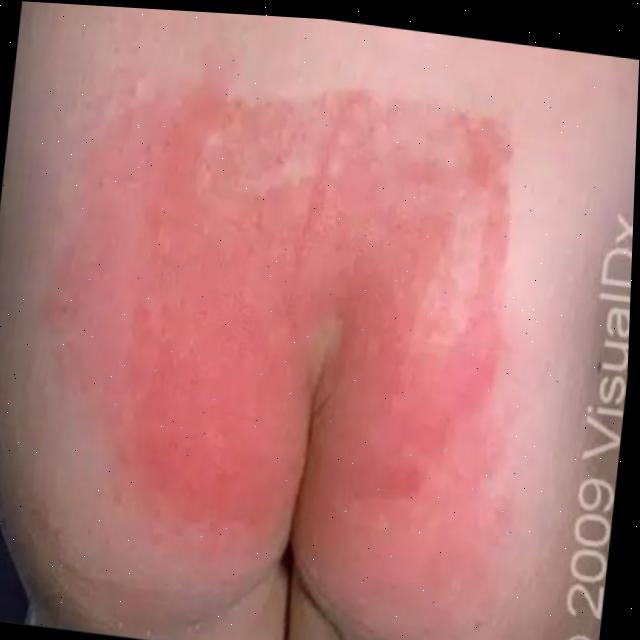Eczema: (11, 59, 556, 640)
